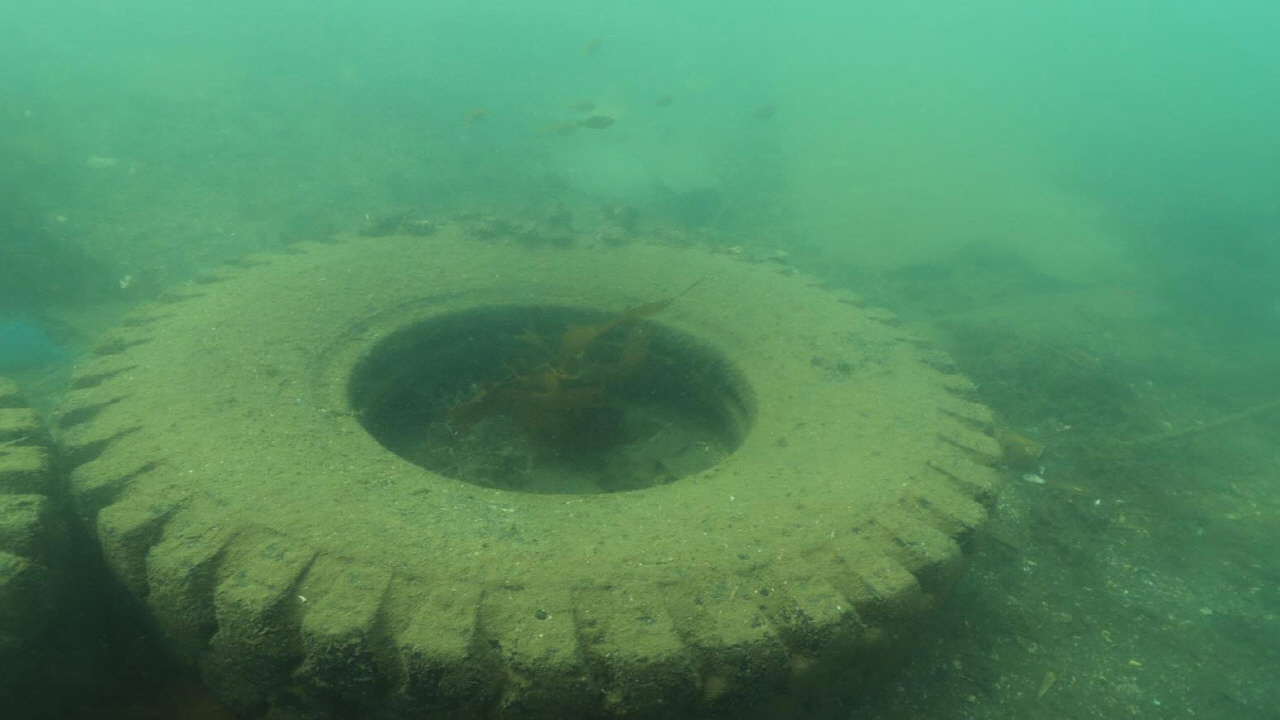tire: (51, 235, 1002, 715)
